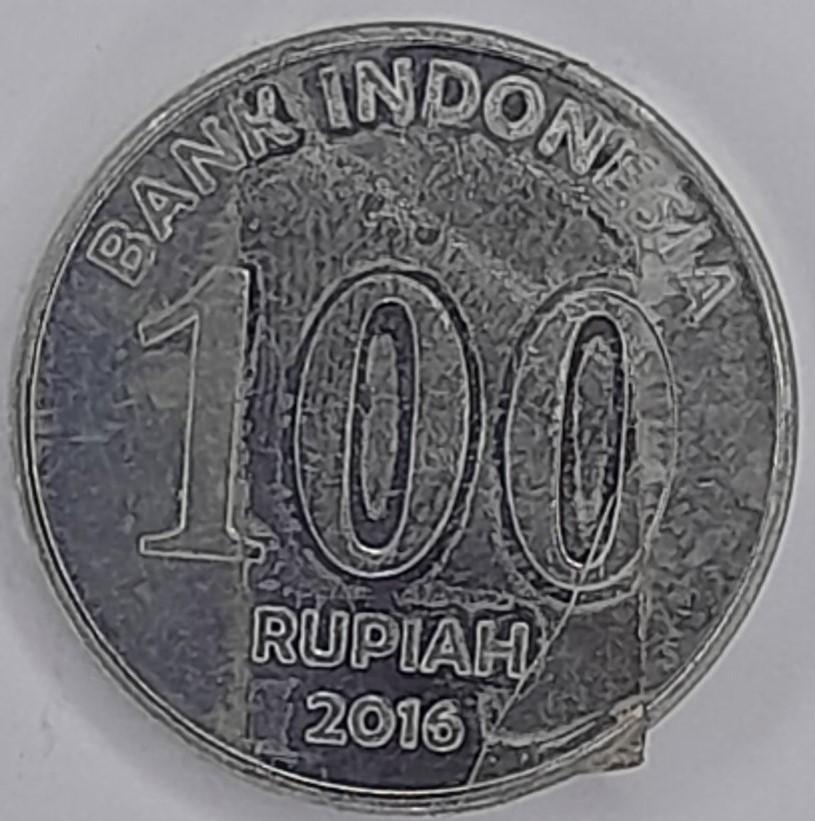coin_100_e2016: (6, 16, 804, 817)
